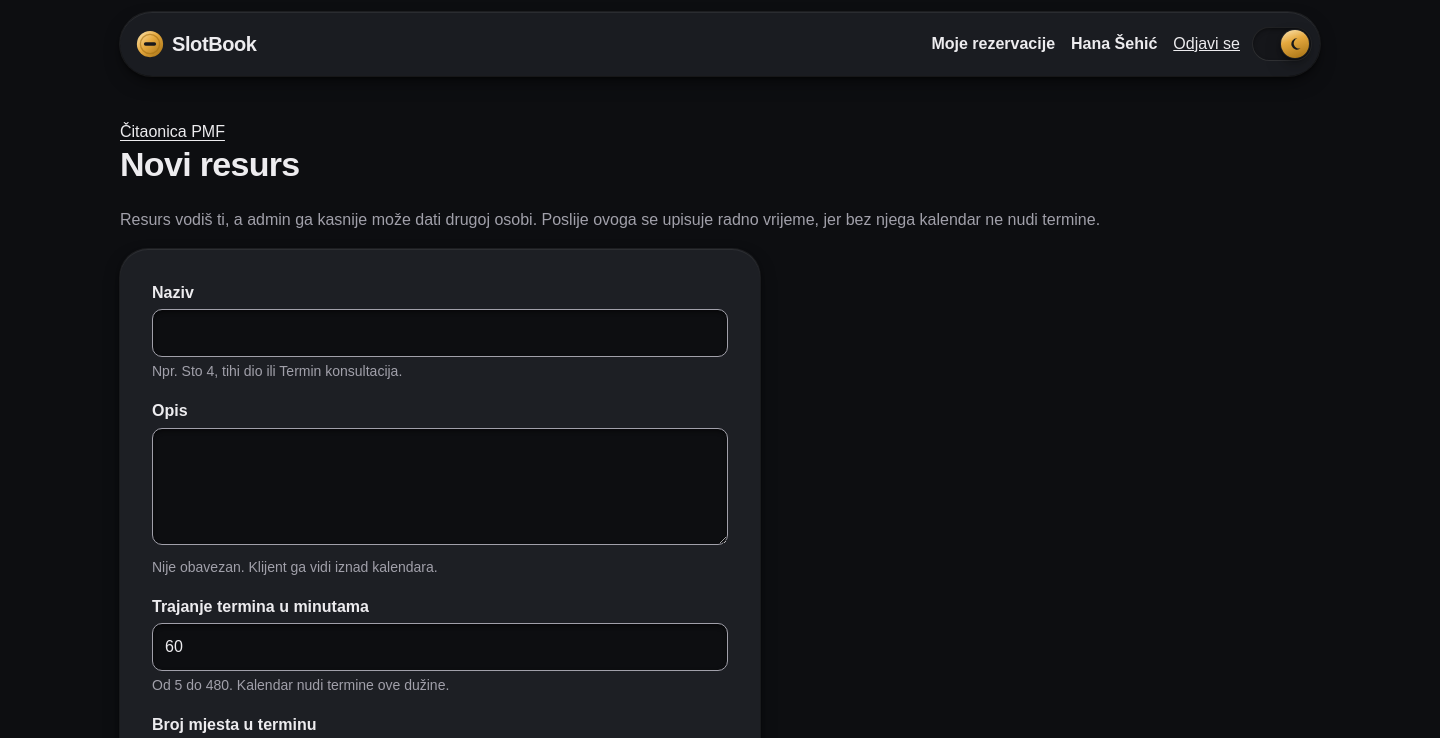
Test: novi resurs › greške iz 400 stoje ispod polja na koja se odnose
Type "0" into the number field labelled "Trajanje termina u minutama". click: (440, 647)
box: [152,623,728,671]
(page scrolled)
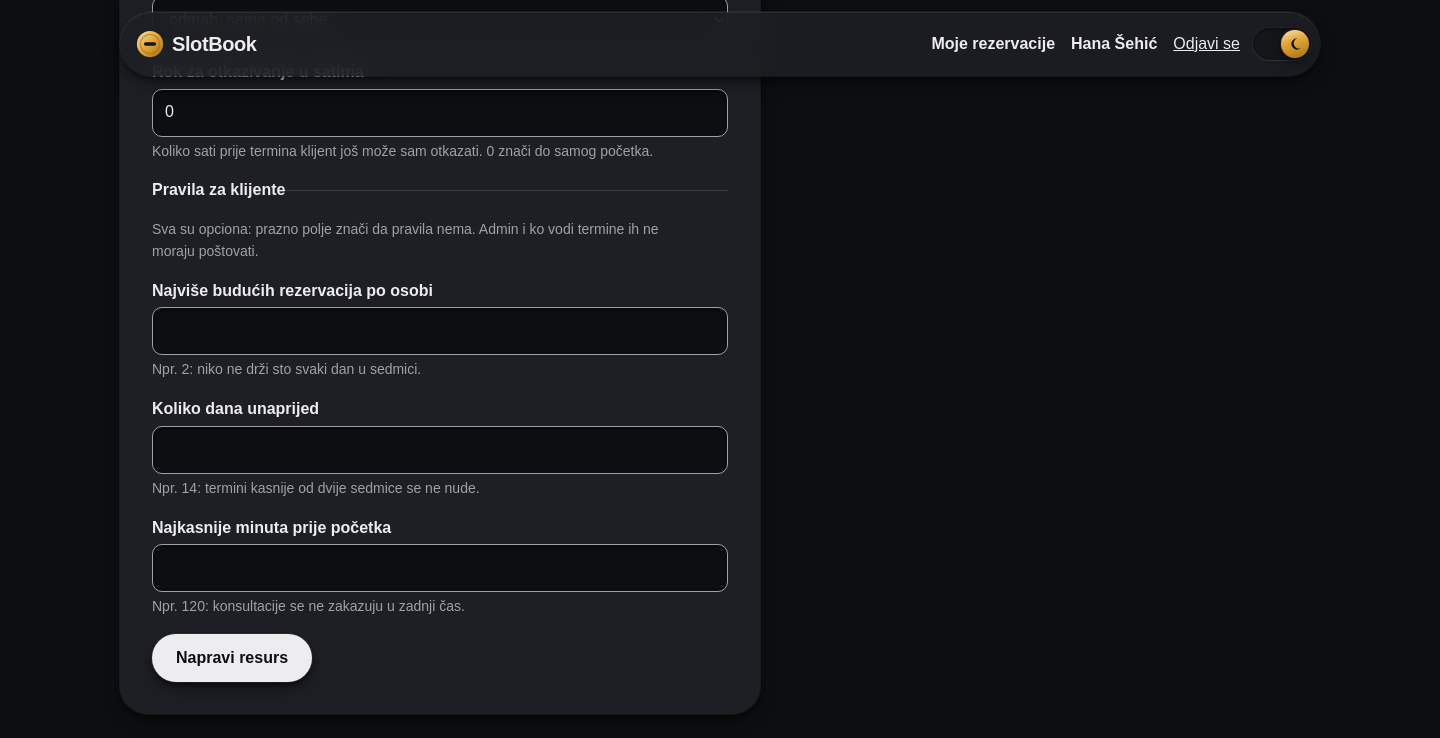
Click the button "Napravi resurs". click: (232, 658)
box: [152,634,312,682]
(page scrolled)
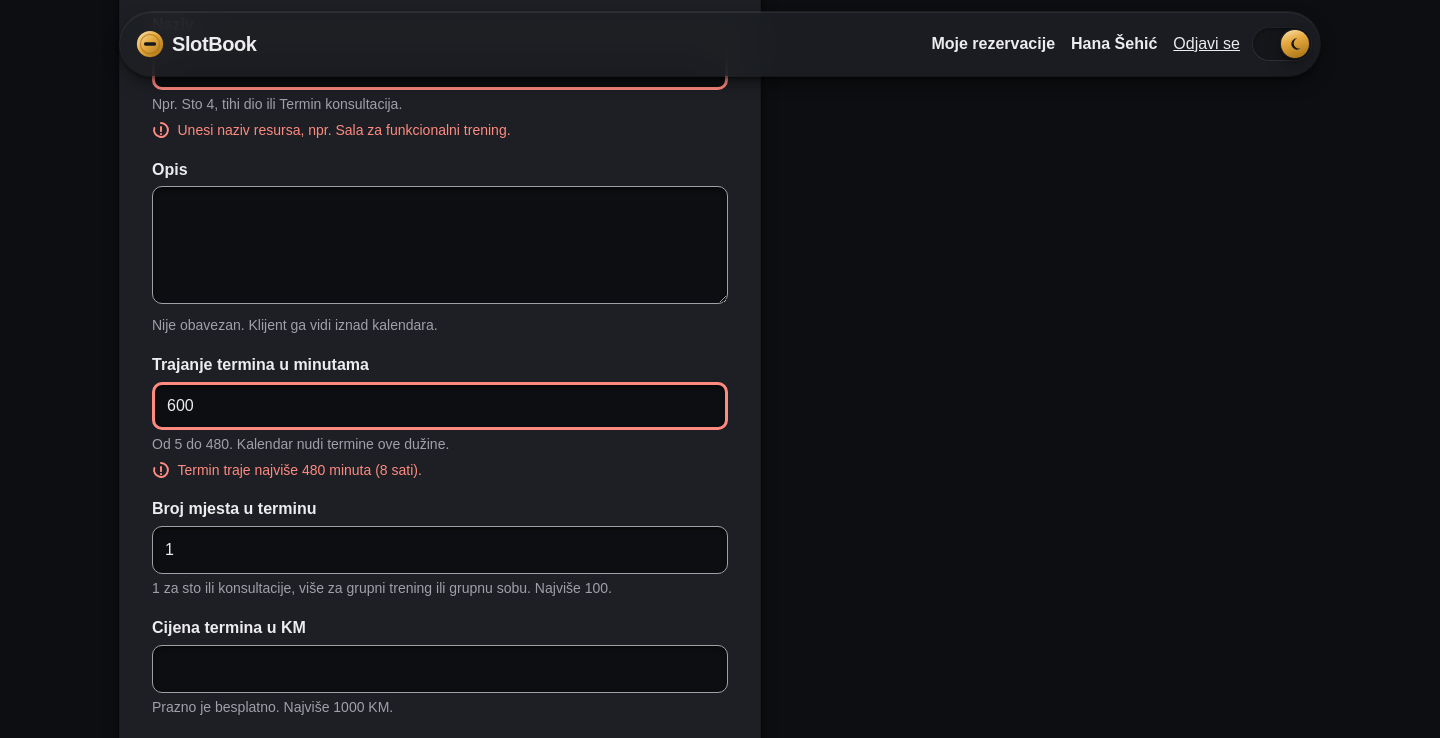
Result: the text "Unesi naziv resursa, npr. Sala za funkcionalni trening." is shown at [178,122,511,138]
